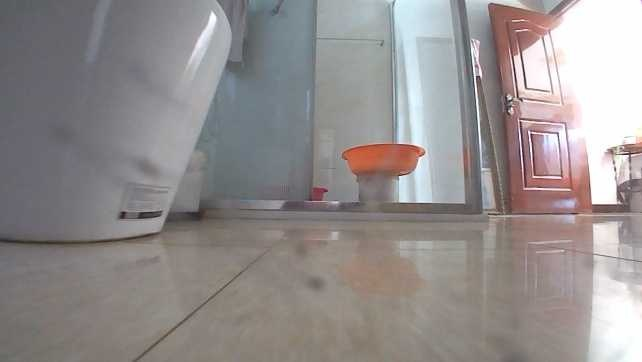door_anno: (485, 2, 593, 216)
toilet: (1, 0, 236, 247)
